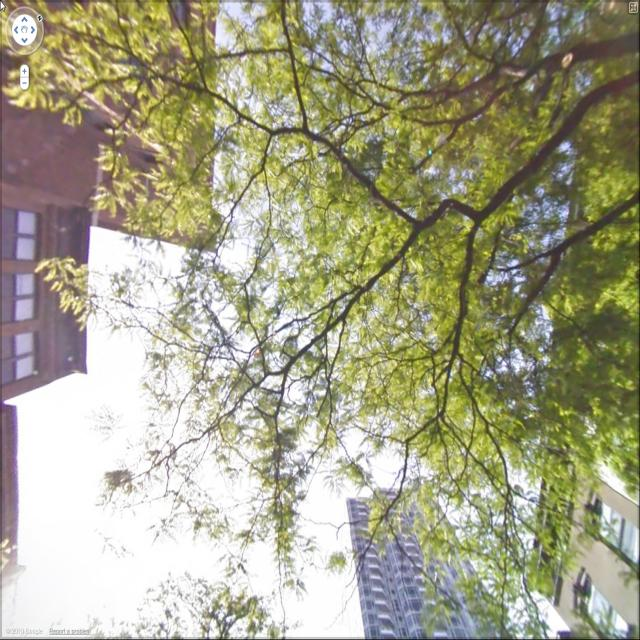b_2: (3, 2, 224, 402), (514, 3, 638, 635), (346, 477, 520, 640)
